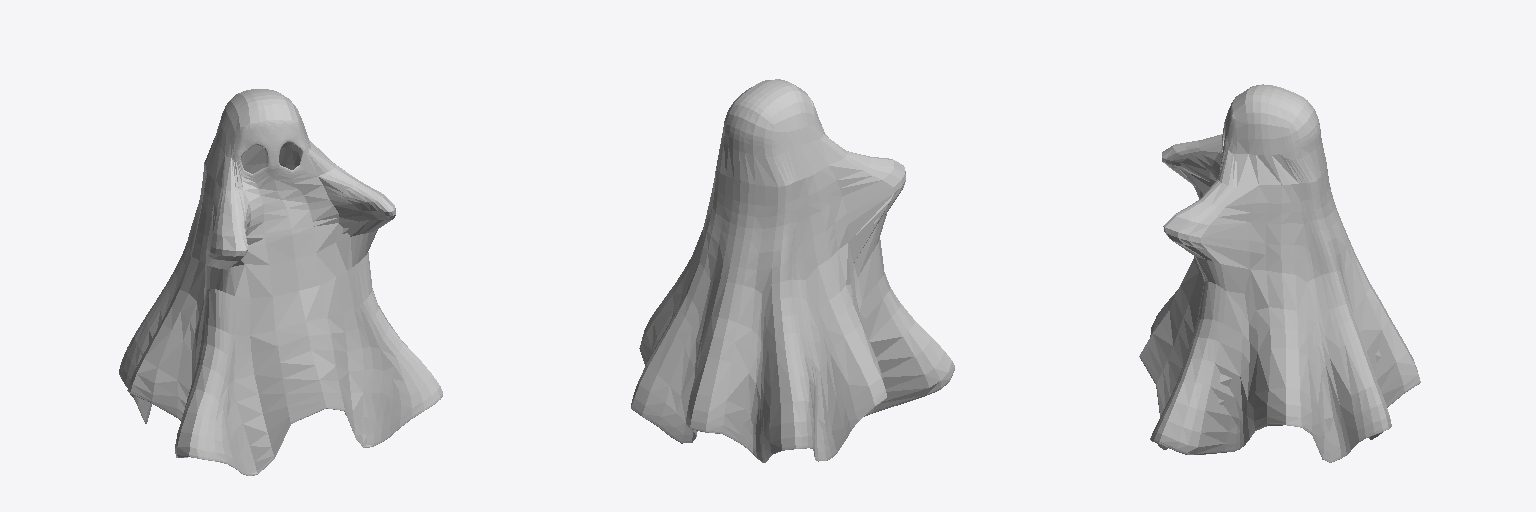
The picture shows the model from 3 angles: view 1: azimuth 30°, elevation 25°; view 2: azimuth 150°, elevation 25°; view 3: azimuth 270°, elevation 25°; orthographic projection.
Parts seen in each view (by area): view 1: youlinguu2:Group3 walk1; view 2: youlinguu2:Group3 walk1; view 3: youlinguu2:Group3 walk1.
Boxes of the visible parts, x1=… form: youlinguu2:Group3 walk1: x1=119, y1=89, x2=442, y2=475; youlinguu2:Group3 walk1: x1=631, y1=79, x2=954, y2=462; youlinguu2:Group3 walk1: x1=1139, y1=84, x2=1420, y2=462.
Size of the model in its own units: 32.65 by 39.73 by 30.53.